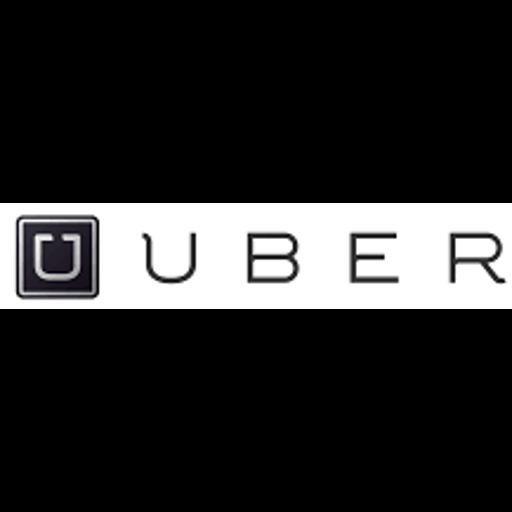Uber: (0, 203, 512, 309)
